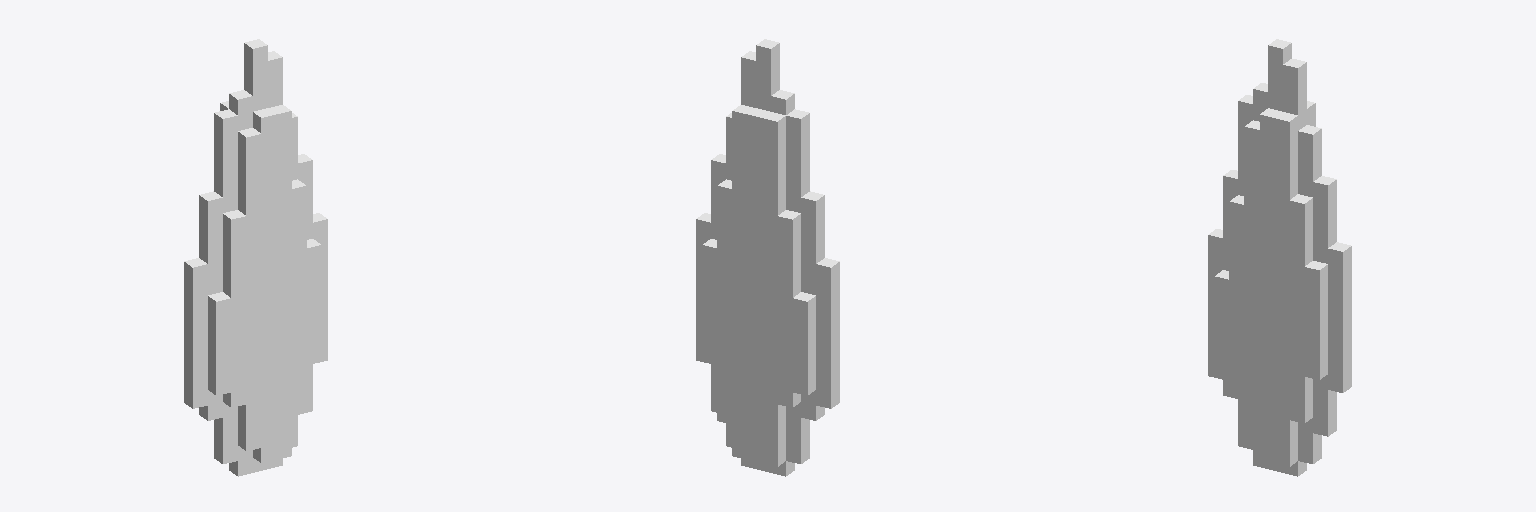
File: selce1.obj
3 renders of one model, left to right at view 1: azimuth 30°, elevation 25°; view 2: azimuth 150°, elevation 25°; view 3: azimuth 330°, elevation 25°, orthographic.
Visible parts, largest first — view 1: object 1; view 2: object 1; view 3: object 1.
Boxes of the visible parts, x1,y1,x2,y2 form: object 1: [184, 39, 327, 476]; object 1: [696, 39, 839, 476]; object 1: [1208, 39, 1351, 476].
Size of the model in its own units: 0.9 by 2.7 by 0.3.